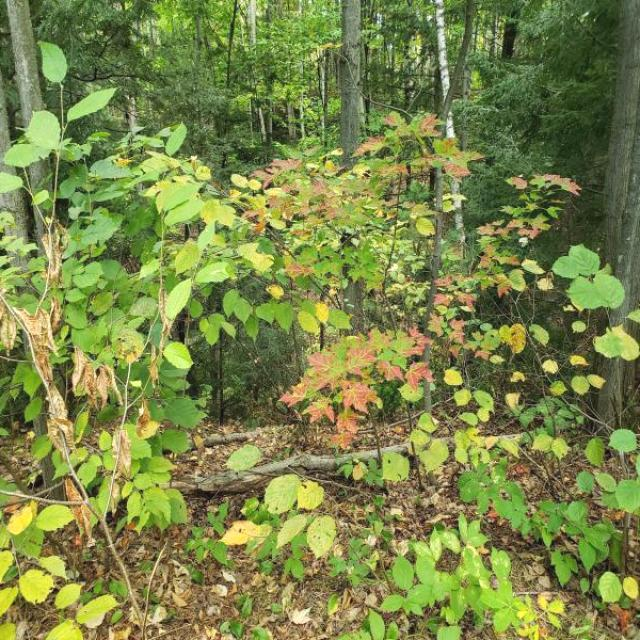fallen_object: (55, 392, 640, 514)
